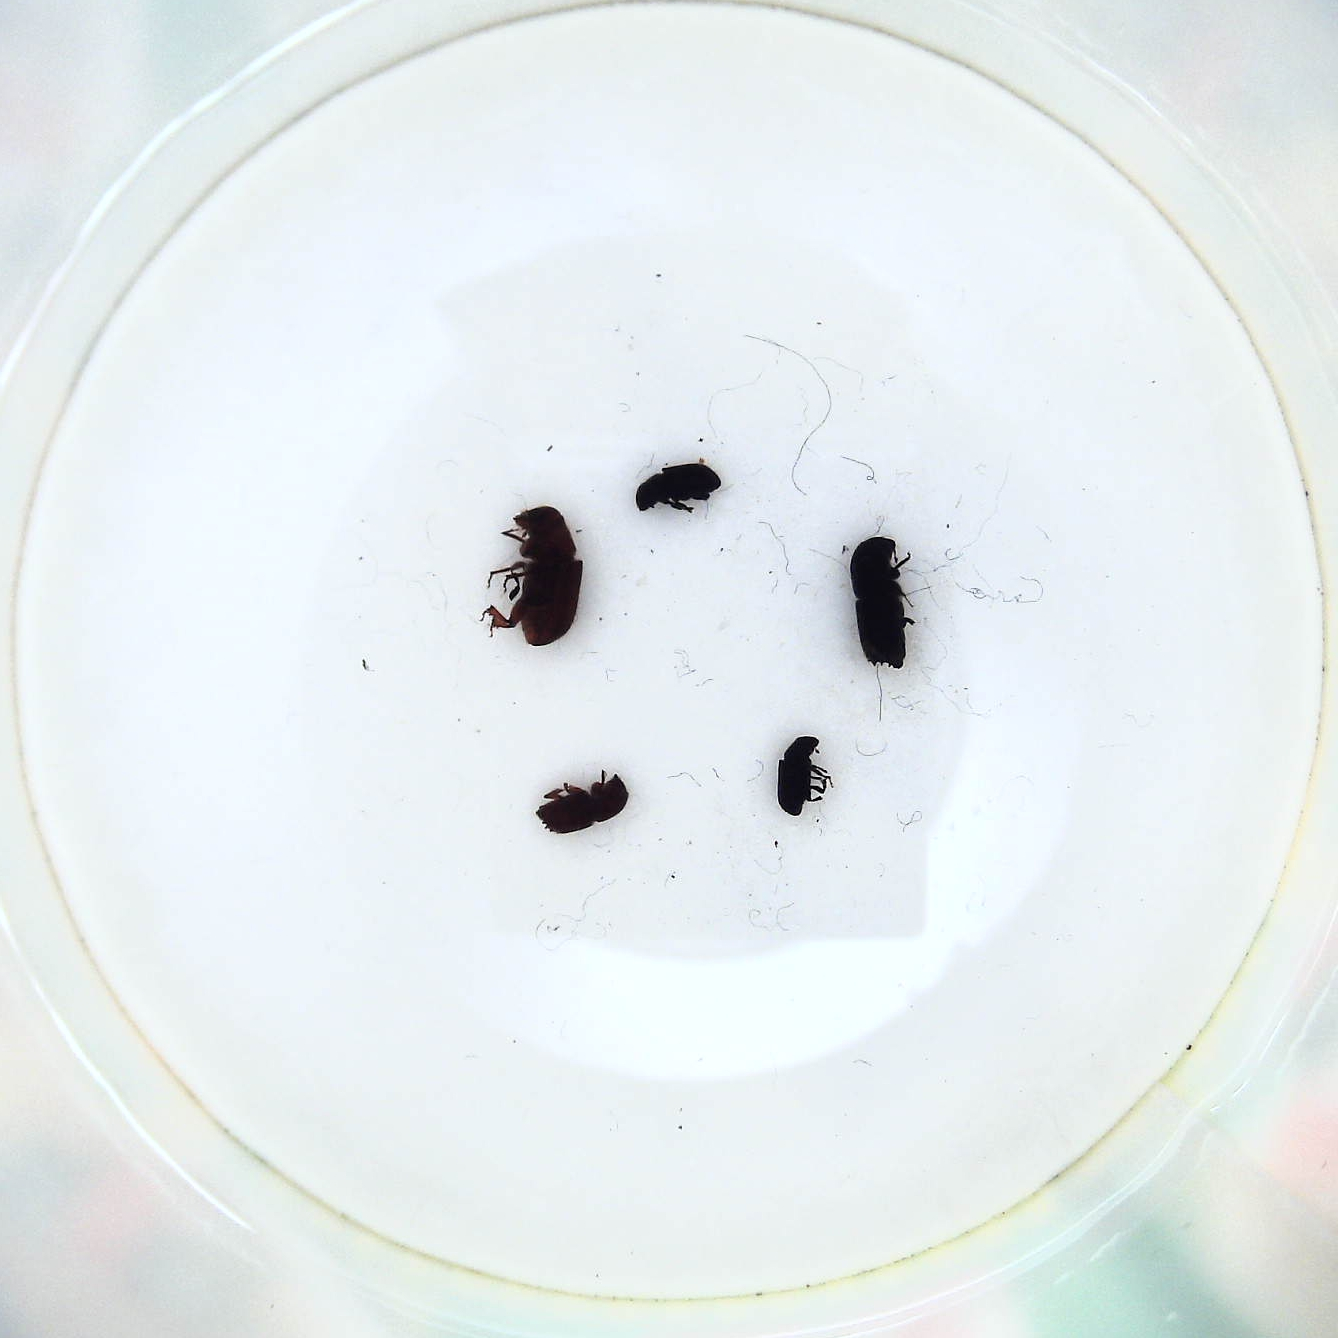Boerner: (843, 529, 919, 673)
Leconte: (477, 506, 586, 644)
armandi: (630, 459, 723, 516)
coleoptera: (765, 728, 833, 823)
linnaeus: (538, 772, 633, 843)
